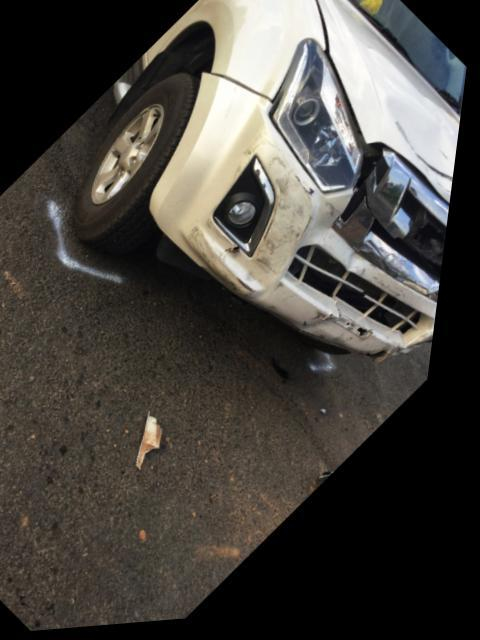crack: (341, 301, 349, 323)
dent: (372, 69, 461, 214), (313, 322, 360, 348), (353, 258, 377, 279)
dislocated part: (156, 80, 446, 367)
scratch: (193, 175, 325, 299)
